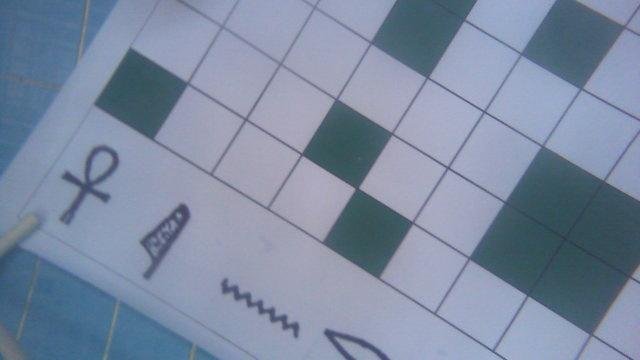Ankh: (56, 142, 123, 228)
Reed: (134, 202, 195, 284)
Water: (215, 280, 306, 337)
